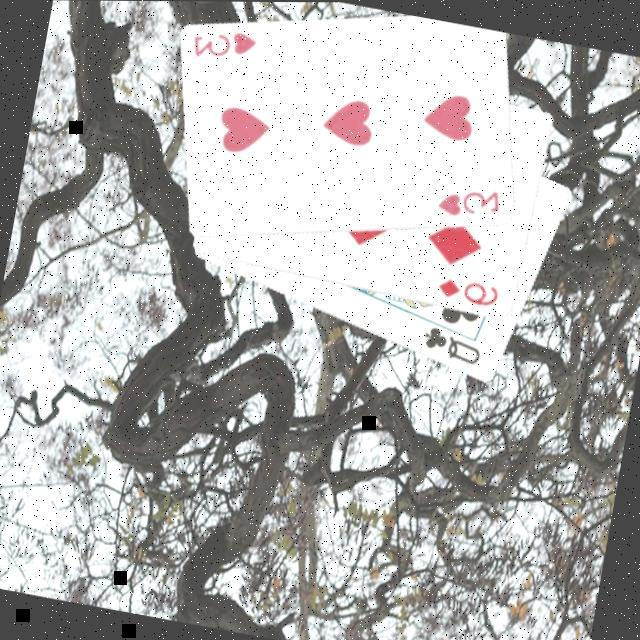3H: (430, 178, 504, 227), (186, 21, 260, 70)
6D: (431, 273, 501, 312)
QC: (414, 321, 486, 370)
